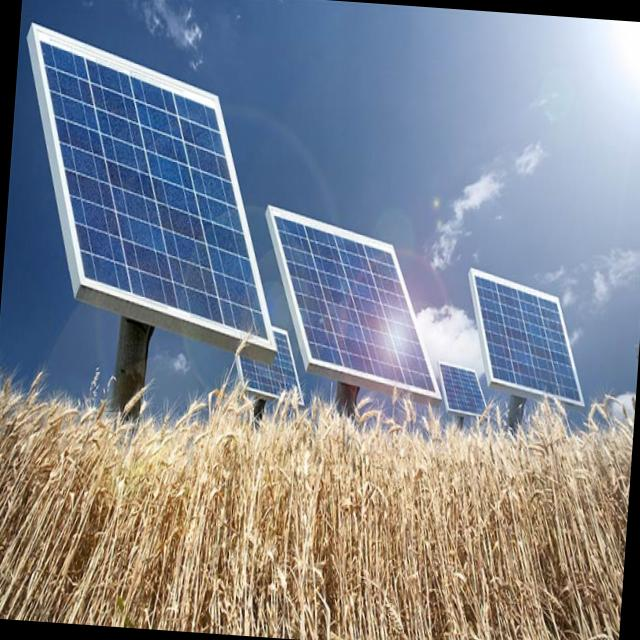no faulty: (41, 45, 271, 339), (273, 215, 435, 389), (478, 283, 581, 395)
